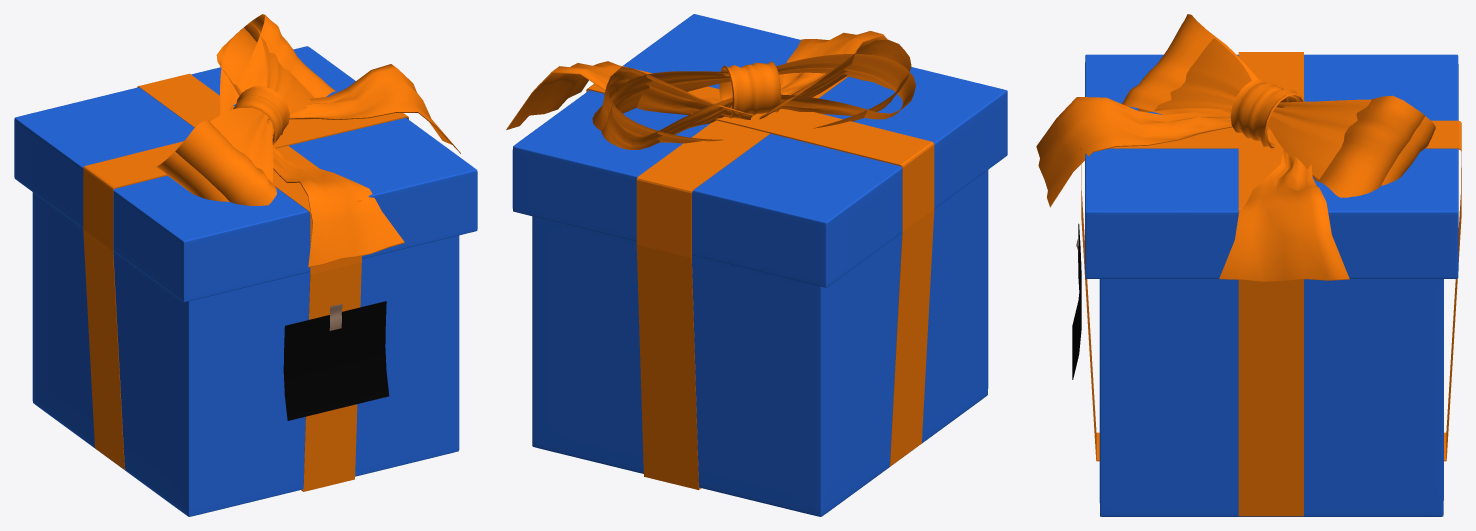
Rendered from gift5-mesh.glb.
3 views of the same model, side by side, from view 1: azimuth 30°, elevation 25°; view 2: azimuth 150°, elevation 25°; view 3: azimuth 270°, elevation 25° (orthographic). The views are drawn at different scales.
Visible parts, largest first — view 1: Gift; view 2: Gift; view 3: Gift.
Boxes of the visible parts, bbox=[...] form: Gift: bbox=[14, 14, 477, 516]; Gift: bbox=[506, 14, 1007, 516]; Gift: bbox=[1036, 14, 1461, 516].
Size of the model in its own units: 2.58 by 2.5 by 2.47.
